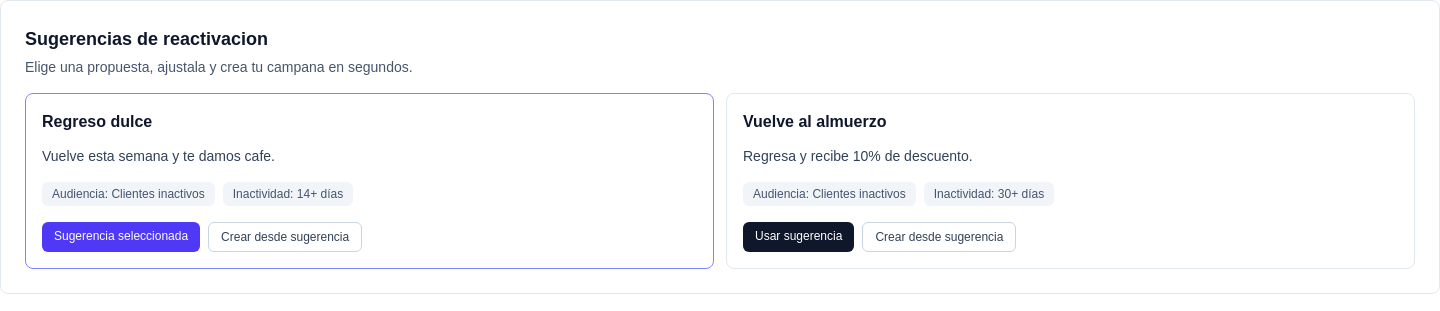
CampaignSuggestionsList › when suggestions exist › updates the selected card after clicking 'Use suggestion'
The width and height of the screenshot is (1440, 311).
Click the button "Usar sugerencia" at (799, 237), box [743,222,854,252]
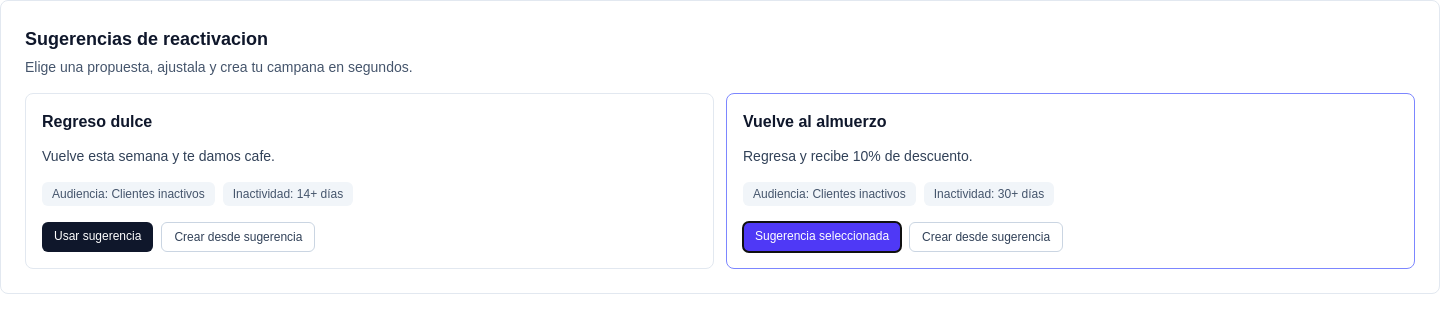
Expected: the button "Sugerencia seleccionada" is shown, [743,222,901,252]
Expected: the button "Usar sugerencia" is shown, [42,222,153,252]
